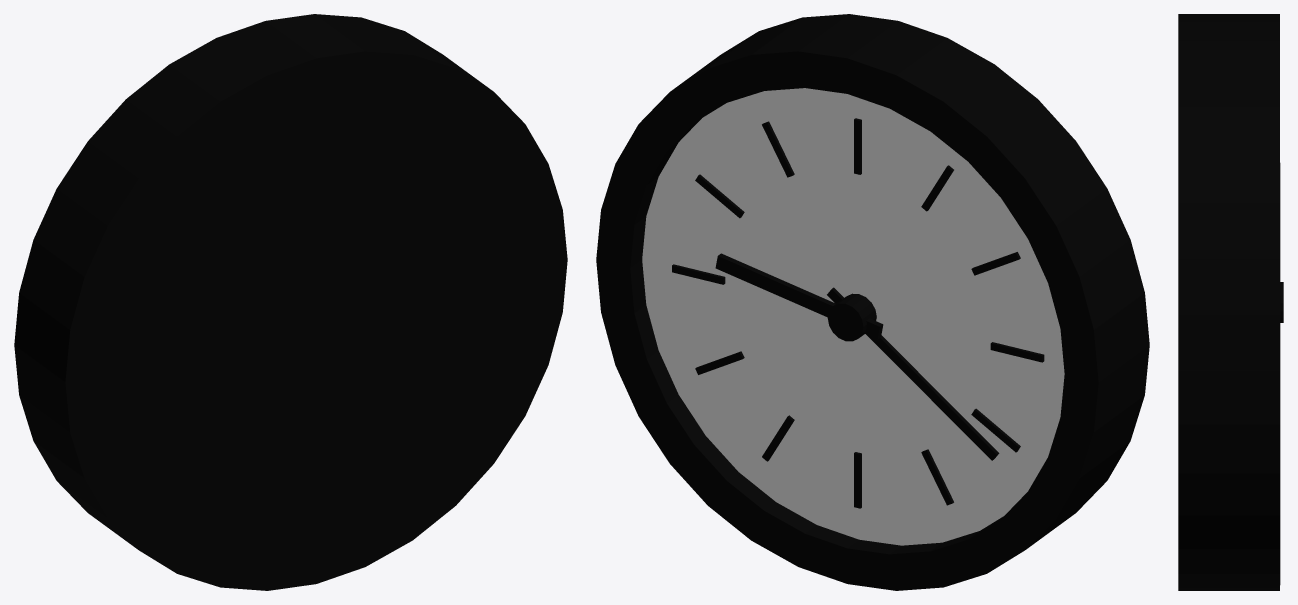
Rendered from clock.fbx.
3 views of the same model, side by side, from view 1: azimuth 30°, elevation 25°; view 2: azimuth 150°, elevation 25°; view 3: azimuth 270°, elevation 25° (orthographic).
Parts seen in each view (by area): view 1: Obj_Clock_0; view 2: Obj_Clock_0; view 3: Obj_Clock_0.
Boxes of the visible parts, x1,y1,x2,y2 form: Obj_Clock_0: (14,14,567,590); Obj_Clock_0: (596,14,1149,590); Obj_Clock_0: (1178,14,1283,590).
Size of the model in its own units: 1845 by 1844 by 337.
1 material, 1 textured.
